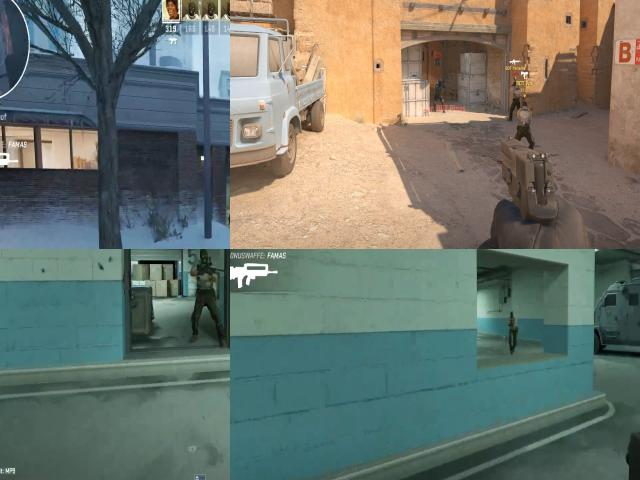CT: (434, 78, 445, 112)
CT-Head: (438, 79, 442, 85)
T: (192, 249, 216, 306), (504, 306, 522, 350), (518, 101, 534, 148), (510, 81, 520, 121)
T-Head: (197, 250, 212, 270), (508, 310, 517, 322), (521, 101, 528, 110), (513, 81, 518, 87)
